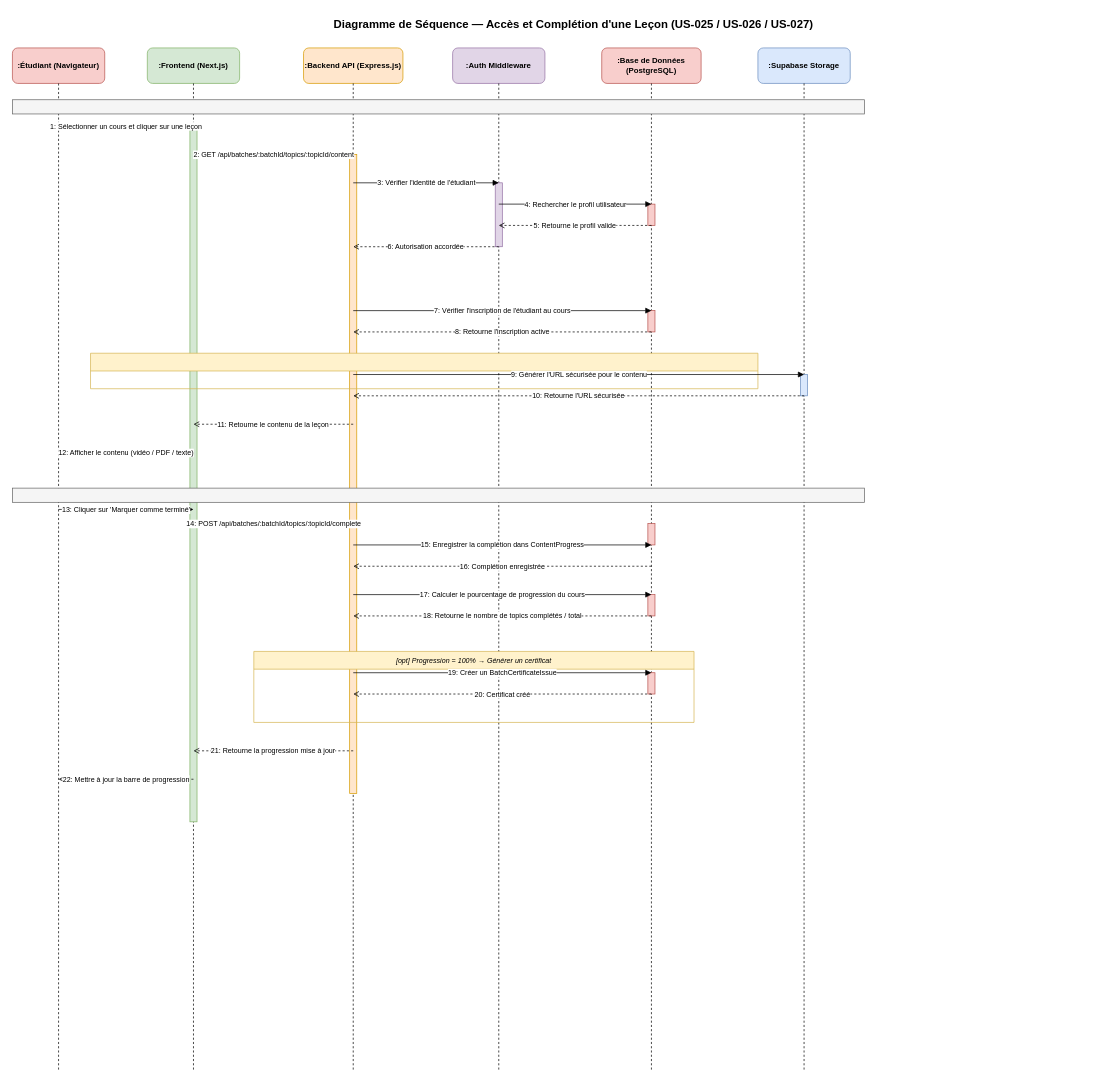
Some shapes in this 1118 by 1083 pixel diagram are drawn without their labels. The shapes that lost their labels are listed below. From the top down, each one's box as (x1, y1, x2, y2) in pixels, then its label:
(12, 99, 864, 114): Phase 1 — Accès au contenu de la leçon
(90, 353, 758, 389): [alt] Étudiant non inscrit → Retourner une erreur 403
(12, 487, 864, 502): Phase 2 — Complétion de la leçon et suivi de la progression
